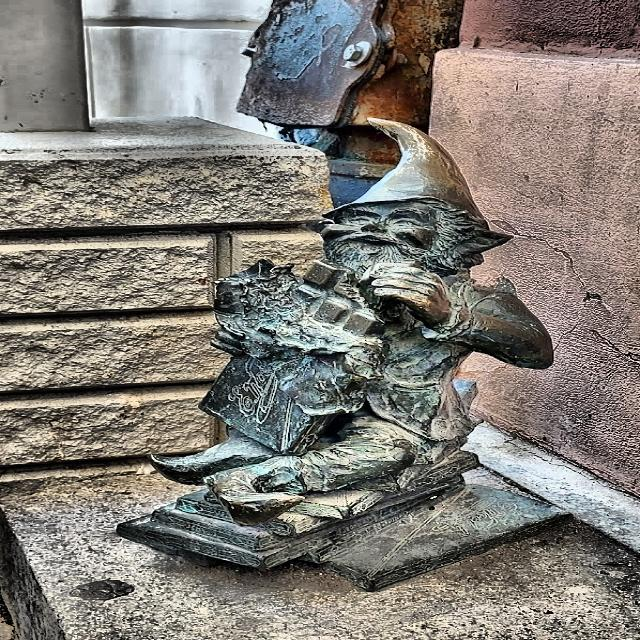Wedelek: (119, 119, 567, 589)
